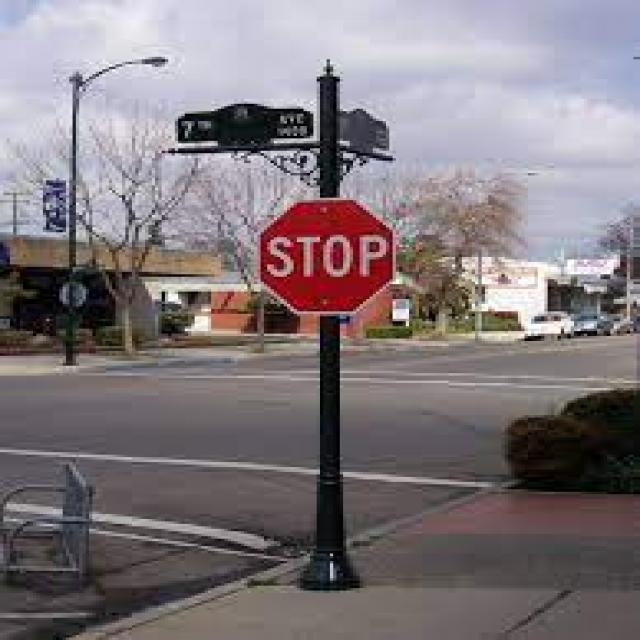stop-sign: (248, 196, 447, 305)
